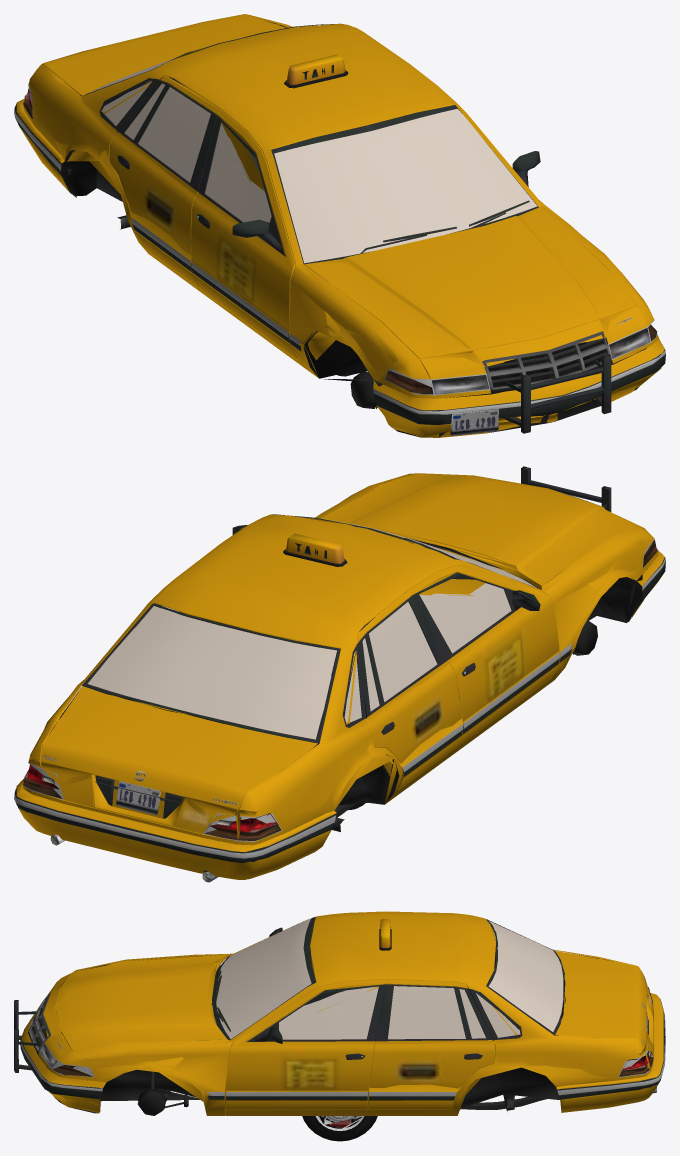
The model's file is taxi.glb.
3 renders of one model, top to bottom at view 1: azimuth 30°, elevation 25°; view 2: azimuth 150°, elevation 25°; view 3: azimuth 270°, elevation 25°, orthographic. The views are drawn at different scales.
Parts seen in each view (by area): view 1: kit0, glass0, kit1, glass1, far; view 2: kit0, glass0, kit1, glass1, far; view 3: kit0, glass0, kit1, far, glass1, wheel0.
Boxes of the visible parts, box(x1,y1,x2,y2) form: kit0: box(14, 14, 665, 437); glass0: box(90, 64, 537, 263); kit1: box(16, 14, 663, 437); glass1: box(99, 57, 531, 261); far: box(56, 24, 661, 437); kit0: box(14, 466, 665, 882); glass0: box(42, 519, 536, 825); kit1: box(16, 466, 660, 882); glass1: box(45, 522, 526, 825); far: box(41, 473, 642, 839); kit0: box(14, 911, 665, 1115); glass0: box(216, 918, 649, 1056); kit1: box(15, 916, 665, 1115); far: box(48, 917, 650, 1115); glass1: box(216, 922, 650, 1055); wheel0: box(302, 1116, 377, 1141).
Bounding box in the file's own units: 2.08 × 1.85 × 5.21.
Materials: 1 (1 with a texture image).
